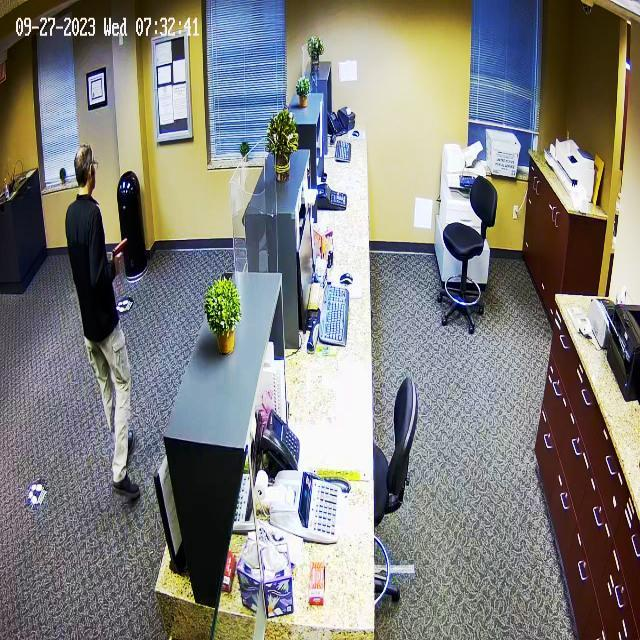Gun: (112, 224, 144, 275)
